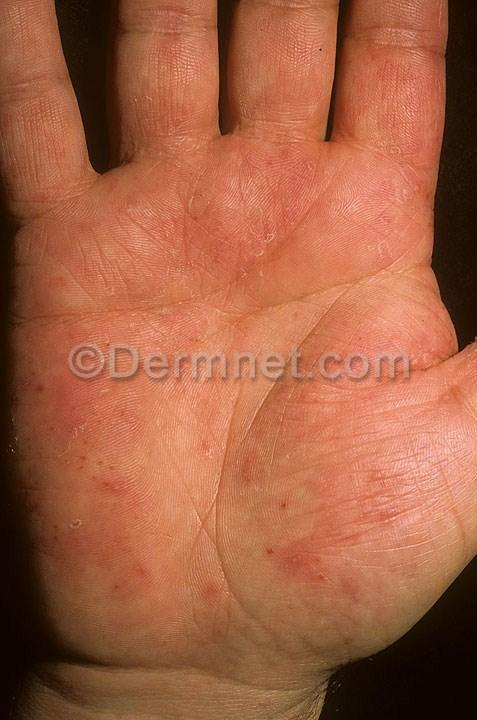Eczema: (27, 406, 209, 611), (25, 215, 195, 408), (242, 445, 419, 622), (192, 165, 368, 339), (368, 0, 469, 141), (1, 28, 84, 198), (145, 0, 245, 138), (246, 0, 328, 156), (375, 330, 477, 439)
